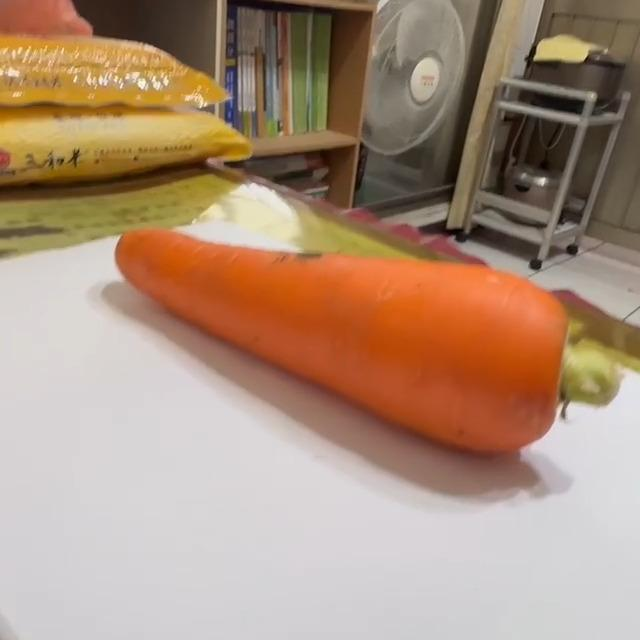carrot: (114, 225, 621, 462)
